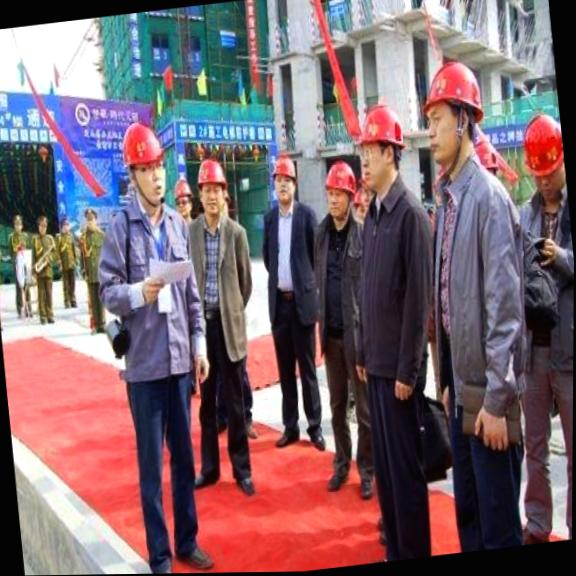no_safety_vest: (430, 182, 529, 384), (108, 211, 196, 375), (362, 192, 436, 371), (512, 192, 575, 355), (190, 218, 252, 331), (314, 219, 373, 333), (265, 205, 319, 317), (82, 228, 106, 277), (33, 237, 56, 278), (11, 231, 32, 274), (56, 235, 74, 272), (0, 235, 0, 283)
